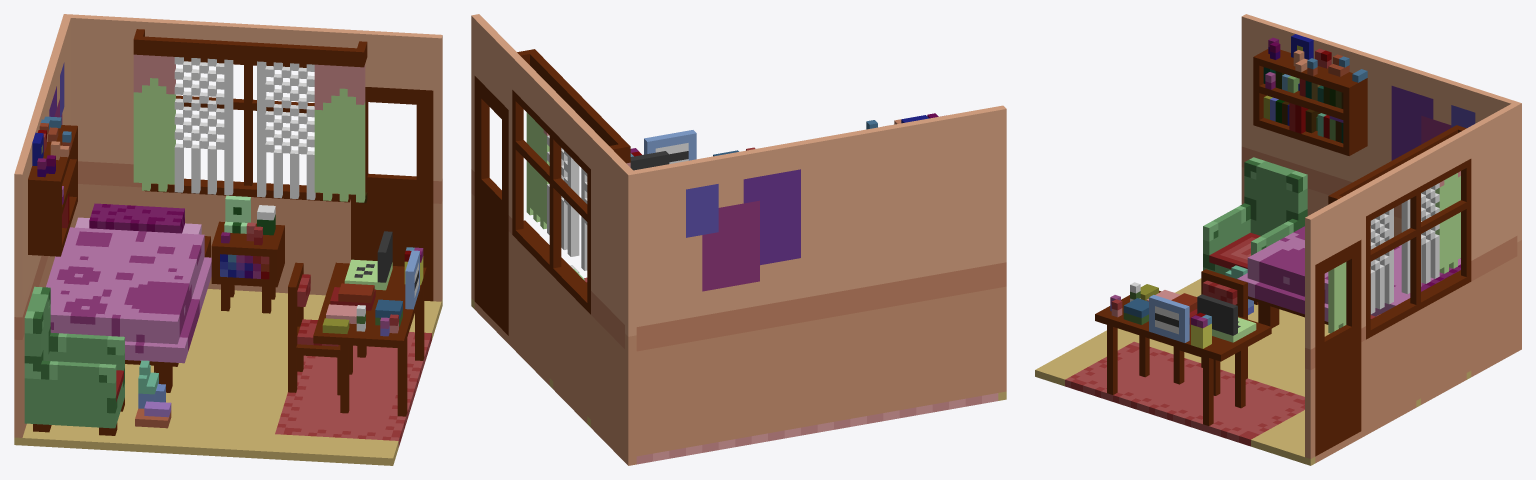
The model's file is room_granny.glb.
The picture shows the model from 3 angles, left to right: view 1: azimuth 30°, elevation 25°; view 2: azimuth 150°, elevation 25°; view 3: azimuth 270°, elevation 25°; orthographic projection. The views are drawn at different scales.
Parts seen in each view (by area): view 1: palette__geom.008; view 2: palette__geom.008; view 3: palette__geom.008.
Boxes of the visible parts, box(x1,y1,x2,y2) form: palette__geom.008: box(14, 14, 442, 465); palette__geom.008: box(471, 14, 1006, 465); palette__geom.008: box(1035, 14, 1521, 465).
Size of the model in its own units: 119 by 66.18 by 119.
Materials: 1 (1 with a texture image).
